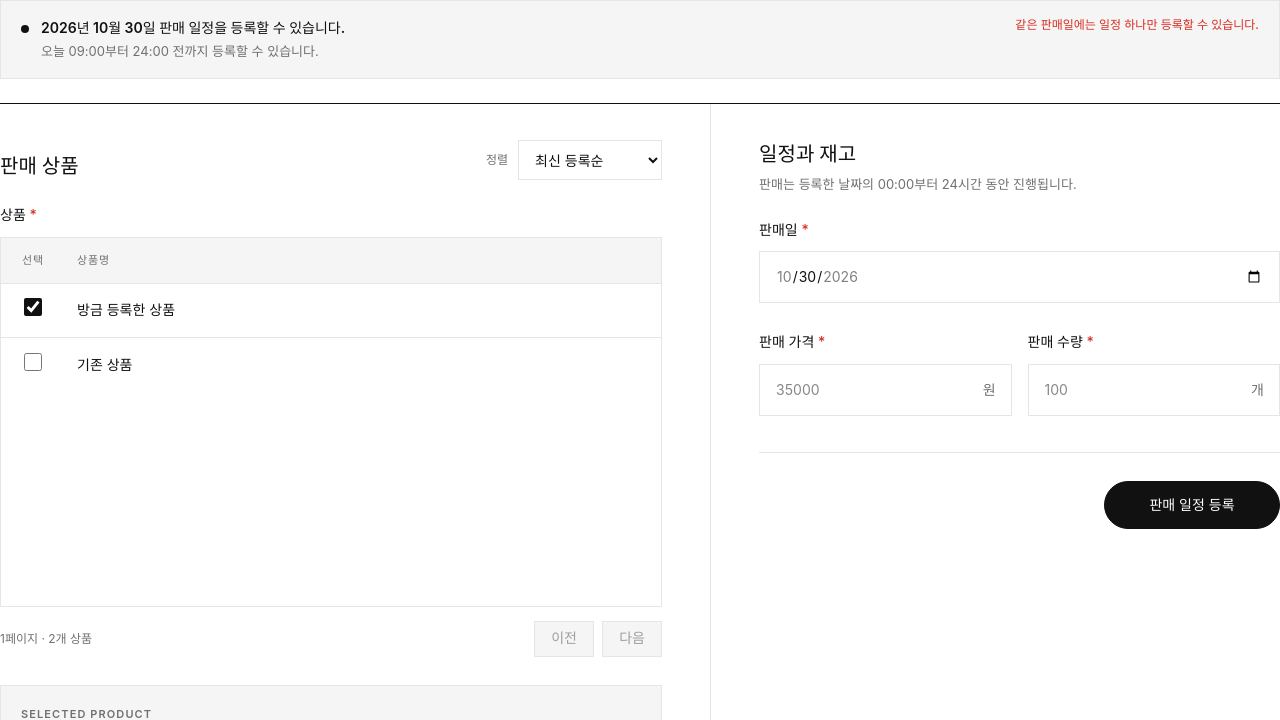
Test: 목록의 등록 상품을 선택 표시하고 다른 상품을 누르면 교체한다
The width and height of the screenshot is (1280, 720).
Expected: the checkbox named "방금 등록한 상품 선택" is checked, [24,298,42,316]
Click the checkbox named "기존 상품 선택" at point(33, 362), box [24,353,42,371]
(page scrolled)
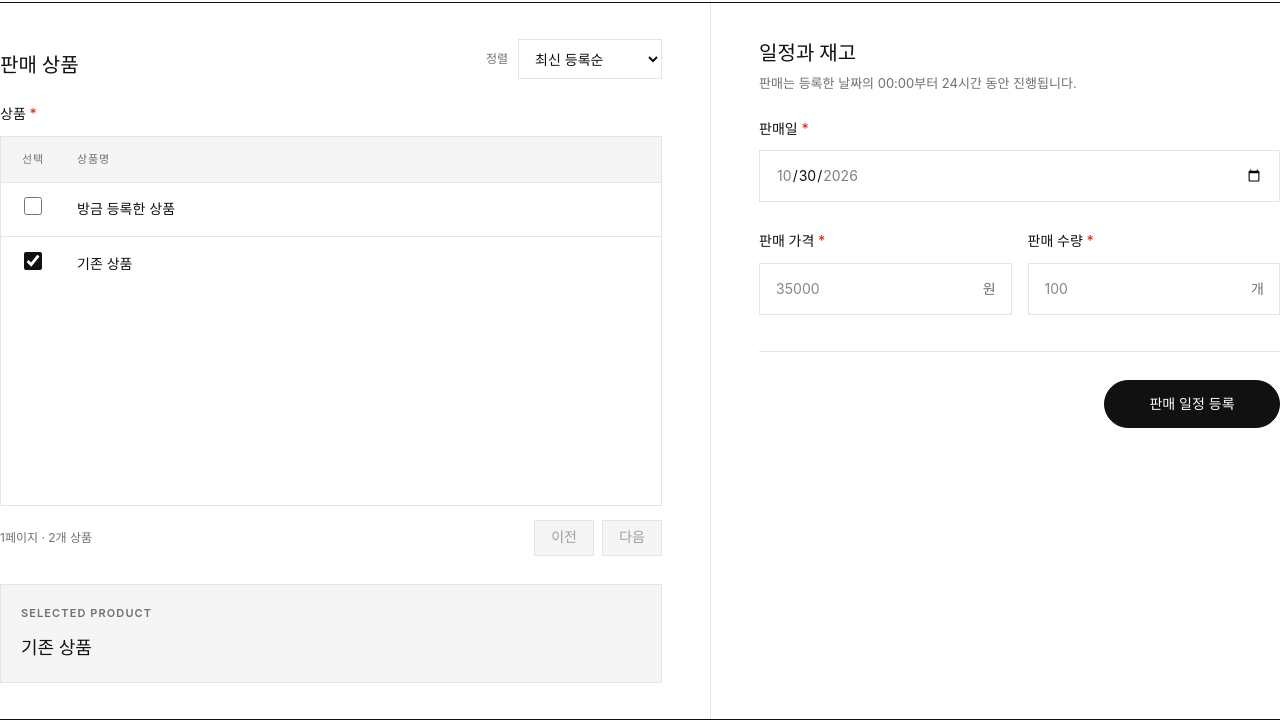
Expected: the checkbox named "기존 상품 선택" is checked, [24,252,42,270]
Expected: the checkbox named "방금 등록한 상품 선택" is not checked, [24,197,42,215]
Expected: the text "기존 상품" below "SELECTED PRODUCT" is shown, [21,637,92,658]
